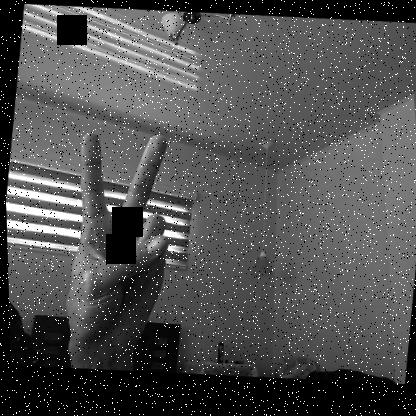V: (52, 117, 186, 368)
